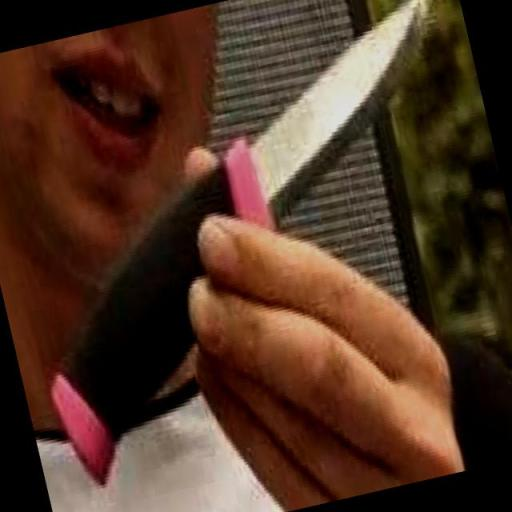knife: (0, 0, 512, 494)
